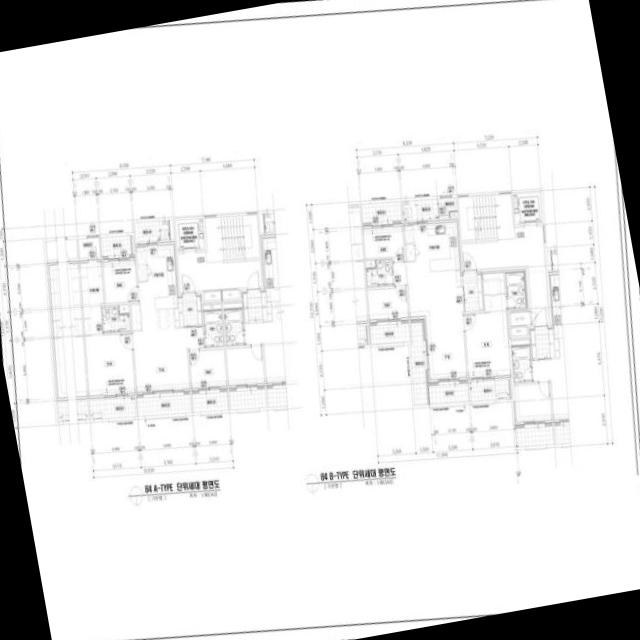background: (0, 0, 640, 640)
space_balconi: (409, 321, 427, 405), (135, 391, 190, 416), (89, 397, 135, 419), (469, 378, 512, 401), (428, 380, 469, 404), (369, 320, 409, 344), (514, 423, 553, 446), (361, 201, 400, 224), (191, 389, 228, 412), (401, 198, 437, 221), (229, 386, 265, 409), (133, 220, 169, 241), (99, 235, 131, 258), (266, 384, 287, 407)
space_bedroom: (82, 305, 134, 395), (464, 292, 510, 377), (102, 259, 137, 303), (513, 382, 551, 422), (188, 348, 226, 387), (226, 346, 263, 385), (362, 226, 403, 260), (367, 287, 407, 319)
space_dressroom: (79, 261, 103, 306), (482, 271, 504, 294)
space_elevator: (174, 217, 203, 250), (512, 191, 541, 224)
space_elevator_hall: (461, 225, 549, 324), (177, 249, 261, 291)
space_front: (460, 271, 483, 311), (176, 294, 202, 326), (242, 291, 267, 323), (529, 328, 554, 358)
space_kitchen: (130, 243, 178, 330), (403, 221, 459, 273)
space_living_room: (392, 262, 466, 379), (132, 326, 203, 391)
space_other: (77, 237, 99, 259), (437, 197, 456, 217), (509, 309, 530, 325), (203, 289, 220, 300), (221, 288, 238, 298), (510, 326, 526, 335), (222, 301, 241, 308), (510, 338, 529, 345), (202, 302, 220, 309), (258, 213, 263, 233), (169, 219, 174, 239), (118, 304, 128, 312), (365, 260, 374, 267), (131, 234, 134, 254), (449, 211, 456, 217)
space_staircase: (204, 214, 259, 262), (458, 193, 514, 240)
space_toilet: (223, 308, 244, 345), (202, 309, 223, 346), (504, 271, 525, 308), (101, 305, 129, 332), (511, 345, 531, 382), (365, 259, 392, 286)
